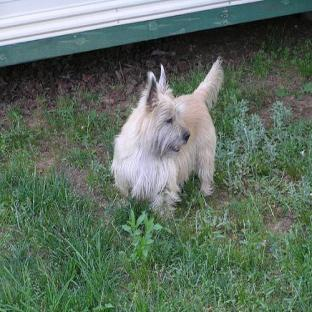Animal: (112, 58, 224, 214)
